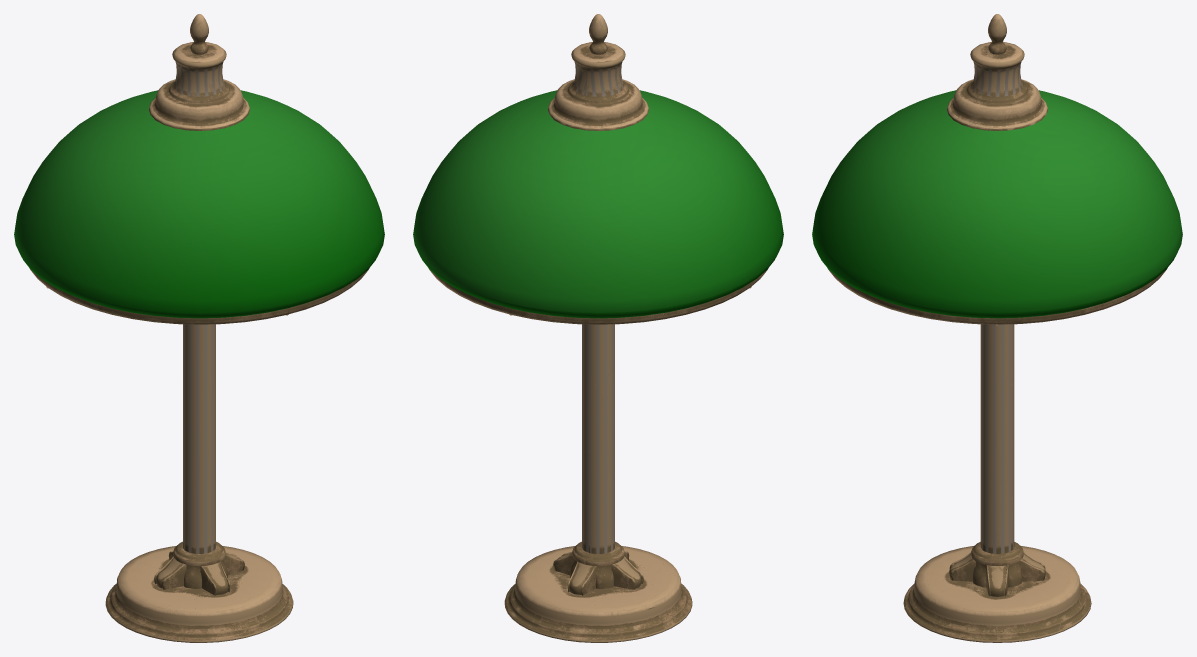
The model's file is old_table_lamp.obj.
The picture shows the model from 3 angles, left to right: view 1: azimuth 30°, elevation 25°; view 2: azimuth 150°, elevation 25°; view 3: azimuth 270°, elevation 25°; orthographic projection.
Parts seen in each view (by area): view 1: SM_OldTableLamp_V03; view 2: SM_OldTableLamp_V03; view 3: SM_OldTableLamp_V03.
Boxes of the visible parts, box(x1,y1,x2,y2) form: SM_OldTableLamp_V03: box(14, 14, 384, 642); SM_OldTableLamp_V03: box(413, 14, 783, 642); SM_OldTableLamp_V03: box(812, 14, 1182, 642).
Bounding box in the file's own units: 27.2 × 47.89 × 27.2.
